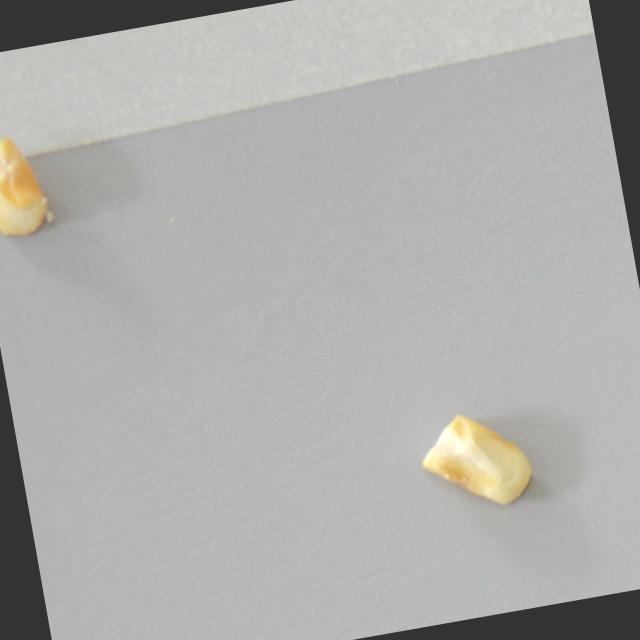pelicula: (415, 401, 540, 518), (0, 129, 56, 240)
